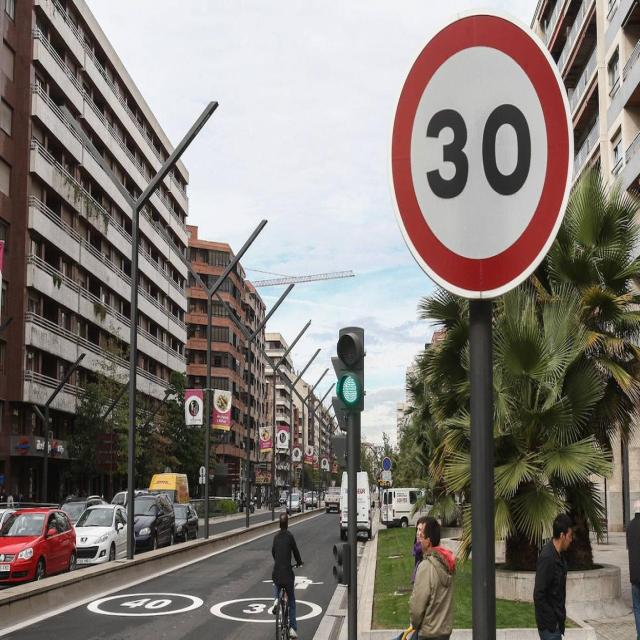Speed limit 30: (388, 13, 584, 307)
